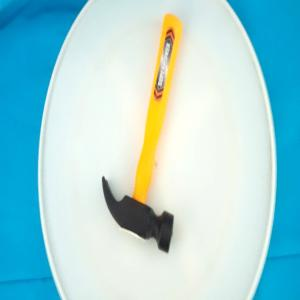martelo: (101, 12, 184, 255)
